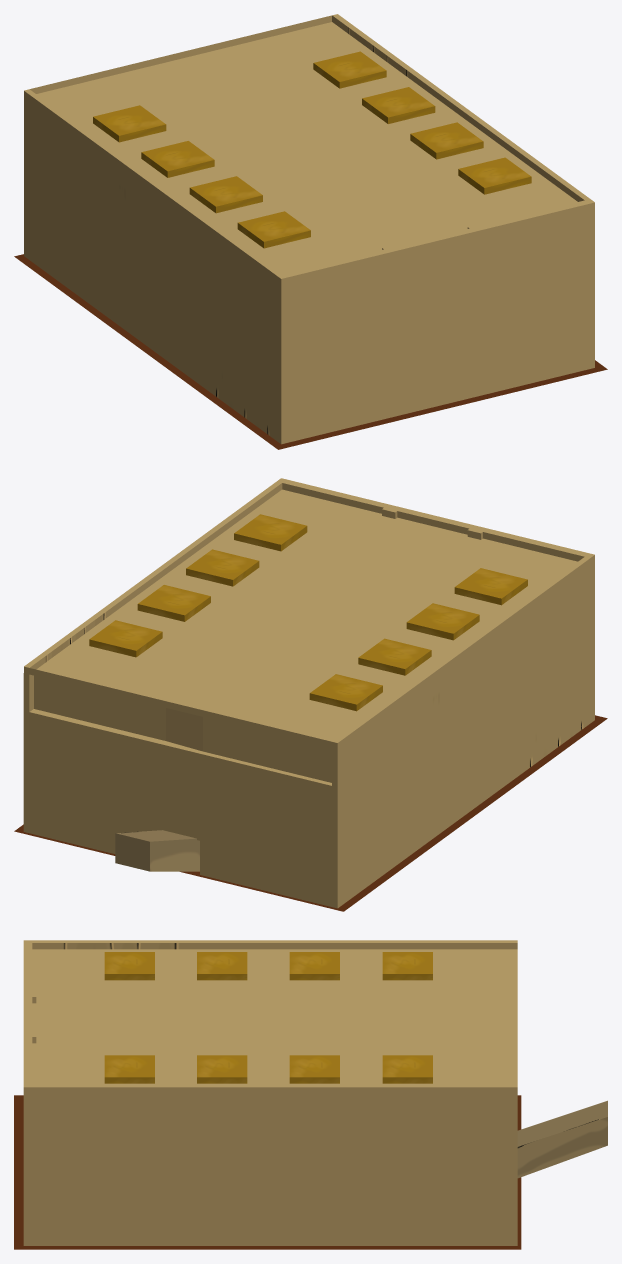
File: Egypt2.glb
3 views of the same model, one above another, from view 1: azimuth 30°, elevation 25°; view 2: azimuth 150°, elevation 25°; view 3: azimuth 270°, elevation 25° (orthographic). The views are drawn at different scales.
Parts seen in each view (by area): view 1: walls2, floor, column2.001, column2.003, column2.006, column2.007, column2, column2.005, column2.002, column2.004; view 2: walls2, corridor1, floor, column2.002, column2.003, column2.004, column2.007, column2, column2.006, column2.001, column2.005; view 3: walls2, corridor1, floor, column2.001, column2.003, column2.005, column2.007, column2, column2.002, column2.004, column2.006.
Part boxes in pixels (left/top/right/bottom): walls2: left=24, top=14, right=594, bottom=444; floor: left=14, top=254, right=607, bottom=449; column2.001: left=458, top=157, right=531, bottom=194; column2.003: left=410, top=122, right=483, bottom=159; column2.006: left=93, top=105, right=166, bottom=142; column2.007: left=313, top=51, right=386, bottom=88; column2: left=237, top=211, right=310, bottom=248; column2.005: left=362, top=87, right=435, bottom=123; column2.002: left=189, top=176, right=262, bottom=213; column2.004: left=141, top=141, right=214, bottom=177; walls2: left=23, top=478, right=594, bottom=908; corridor1: left=115, top=830, right=199, bottom=871; floor: left=14, top=715, right=607, bottom=911; column2.002: left=406, top=603, right=479, bottom=640; column2.003: left=186, top=549, right=259, bottom=586; column2.004: left=358, top=638, right=431, bottom=675; column2.007: left=89, top=620, right=162, bottom=657; column2: left=454, top=568, right=527, bottom=605; column2.006: left=309, top=674, right=382, bottom=711; column2.001: left=234, top=514, right=307, bottom=551; column2.005: left=137, top=585, right=210, bottom=621; walls2: left=23, top=940, right=517, bottom=1245; corridor1: left=517, top=1100, right=607, bottom=1178; floor: left=14, top=1095, right=521, bottom=1249; column2.001: left=104, top=1055, right=154, bottom=1083; column2.003: left=197, top=1055, right=247, bottom=1083; column2.005: left=289, top=1055, right=339, bottom=1083; column2.007: left=382, top=1055, right=432, bottom=1083; column2: left=104, top=952, right=154, bottom=980; column2.002: left=197, top=952, right=247, bottom=980; column2.004: left=289, top=952, right=339, bottom=980; column2.006: left=382, top=952, right=432, bottom=980.
Bounding box in the file's own units: 27.53 × 13.23 × 44.74.
12 materials, 12 textured.
